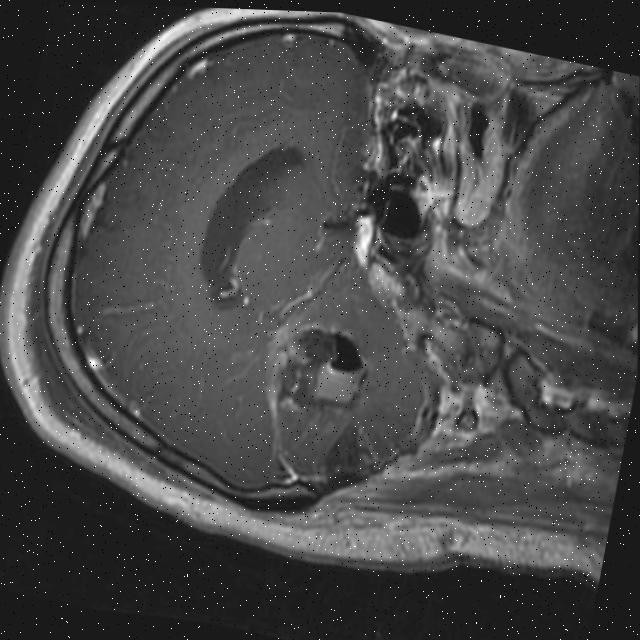Glioma: (269, 316, 377, 423)
Pituitary: (344, 208, 380, 272)
